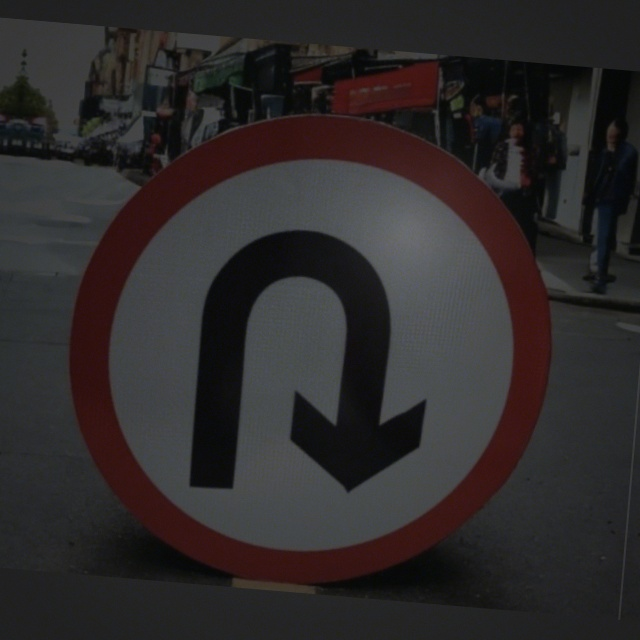U_Turn_Ahead: (110, 155, 535, 561)
